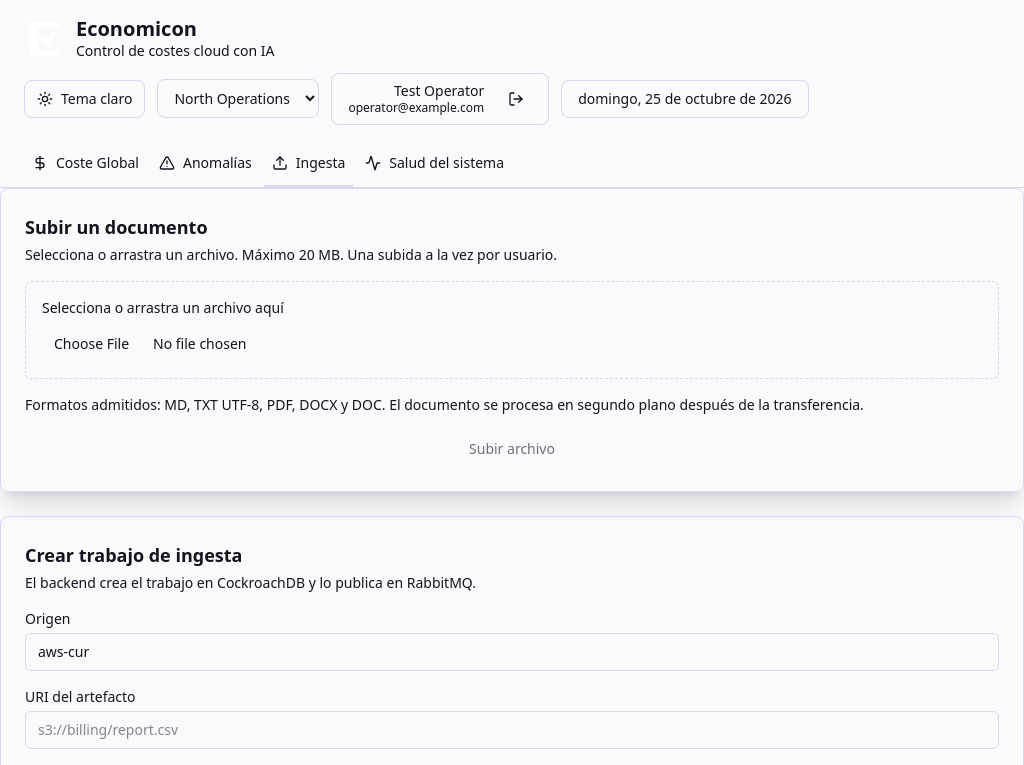
Test: tenant changes isolate page state › clears an ingestion draft and its previous success when switching tenants
This screenshot has width=1024, height=765.
Check: the heading "Crear trabajo de ingesta" is shown, box [25,542,242,566]
Replace the text in the field labelled "Origen" with "north-private-source" at (512, 652), box [25,632,999,670]
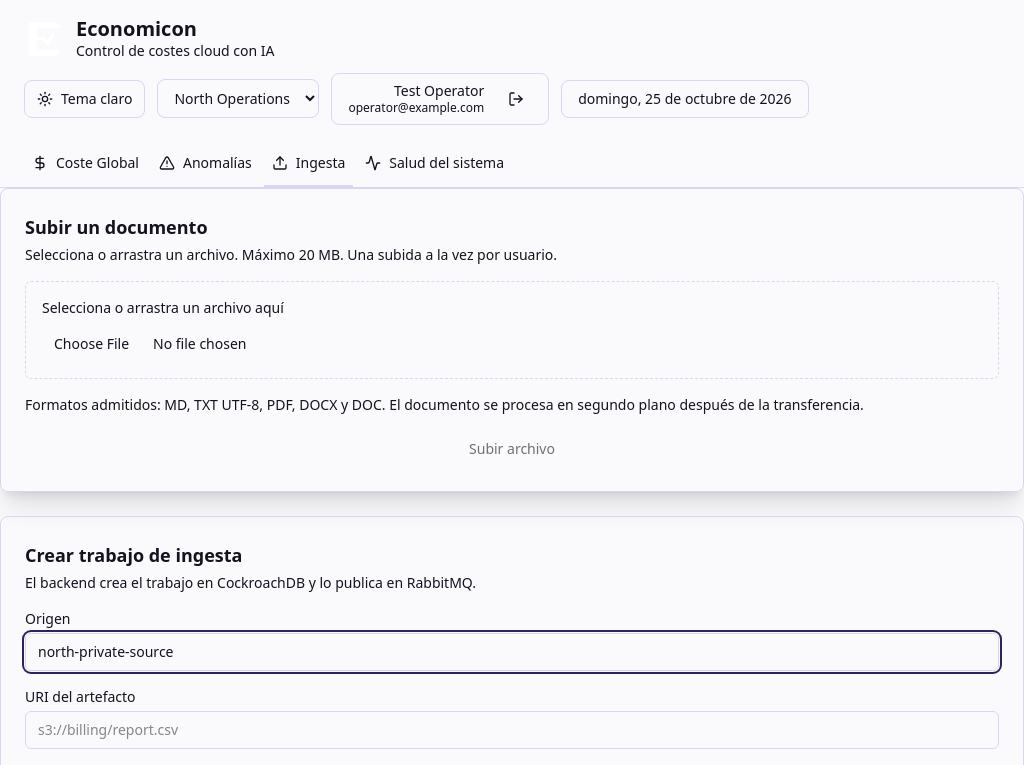
Type "s3://north/private.txt" into the field labelled "URI del artefacto" at (512, 730), box [25,710,999,748]
(page scrolled)
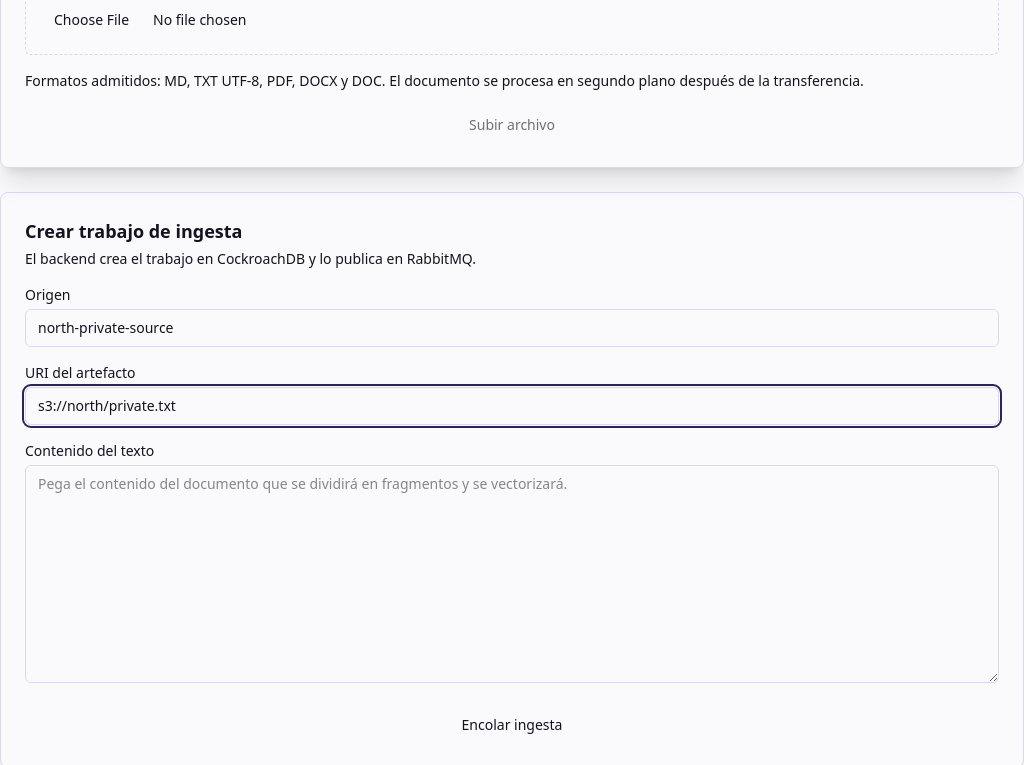
Type "North private document" into the text box labelled "Contenido del texto" at (512, 574), box [25,464,999,682]
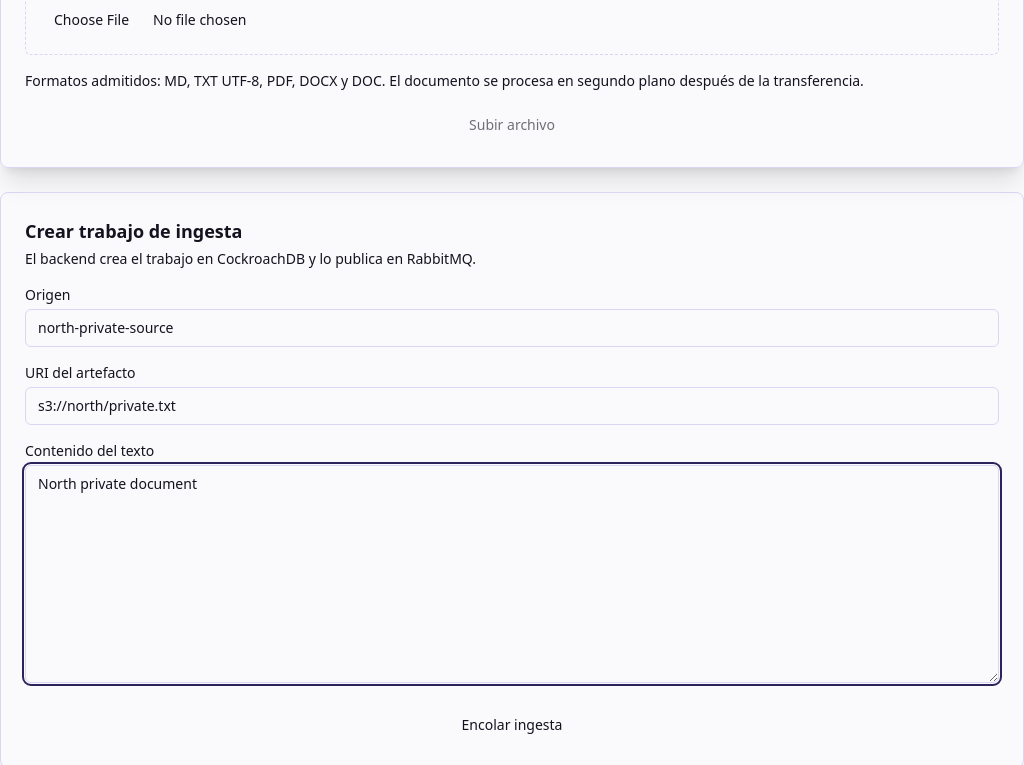
Click the button "Encolar ingesta" at (512, 724), box [25,706,999,742]
(page scrolled)
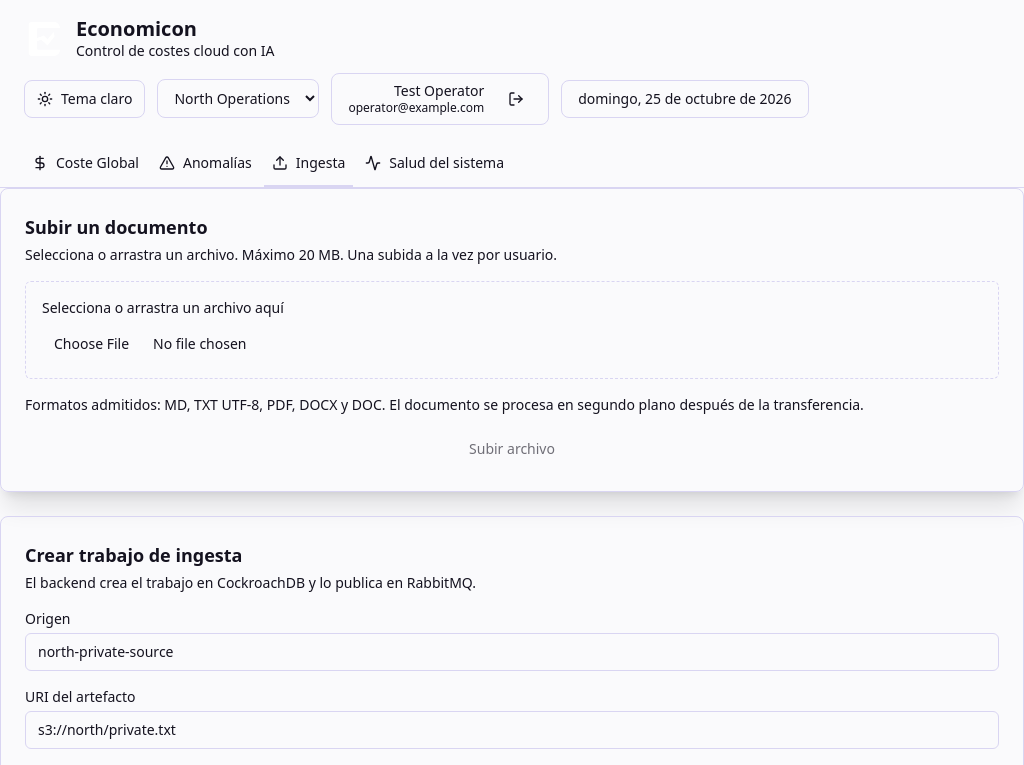
Select "South Operations" in the dropdown named "Ámbito de cliente" at (238, 99), box [158,79,320,118]
(page scrolled)
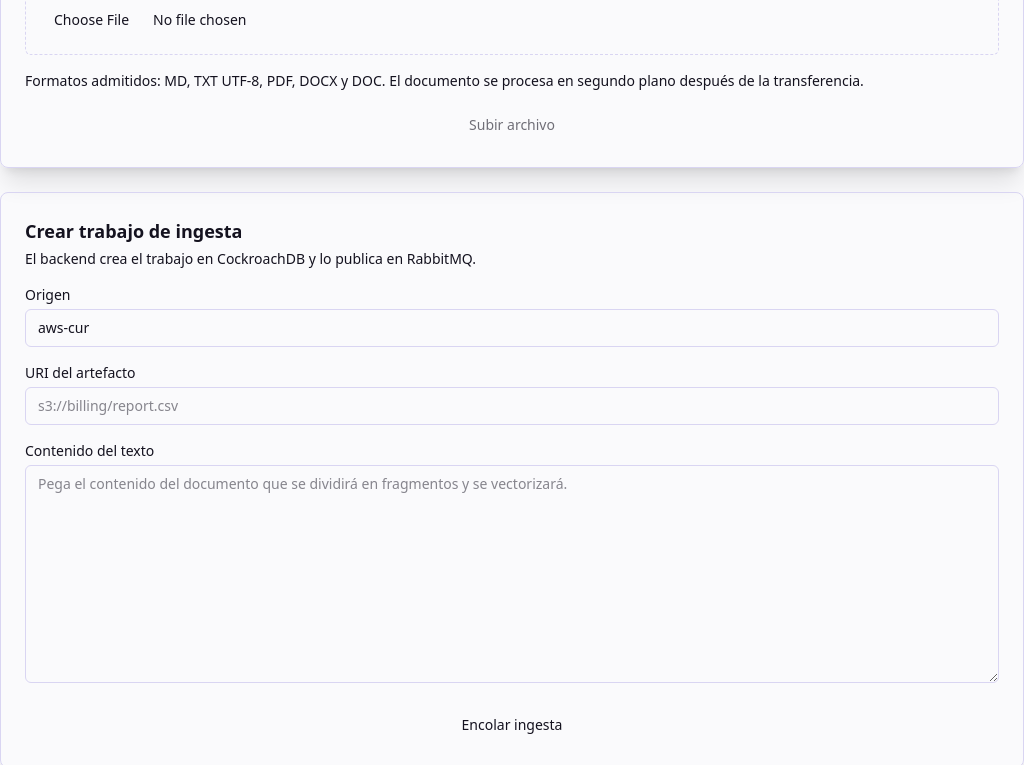
Check: the field labelled "Origen" holds "aws-cur", box [25,308,999,346]
Check: the field labelled "URI del artefacto" is empty, box [25,386,999,424]
Check: the text box labelled "Contenido del texto" is empty, box [25,464,999,682]
